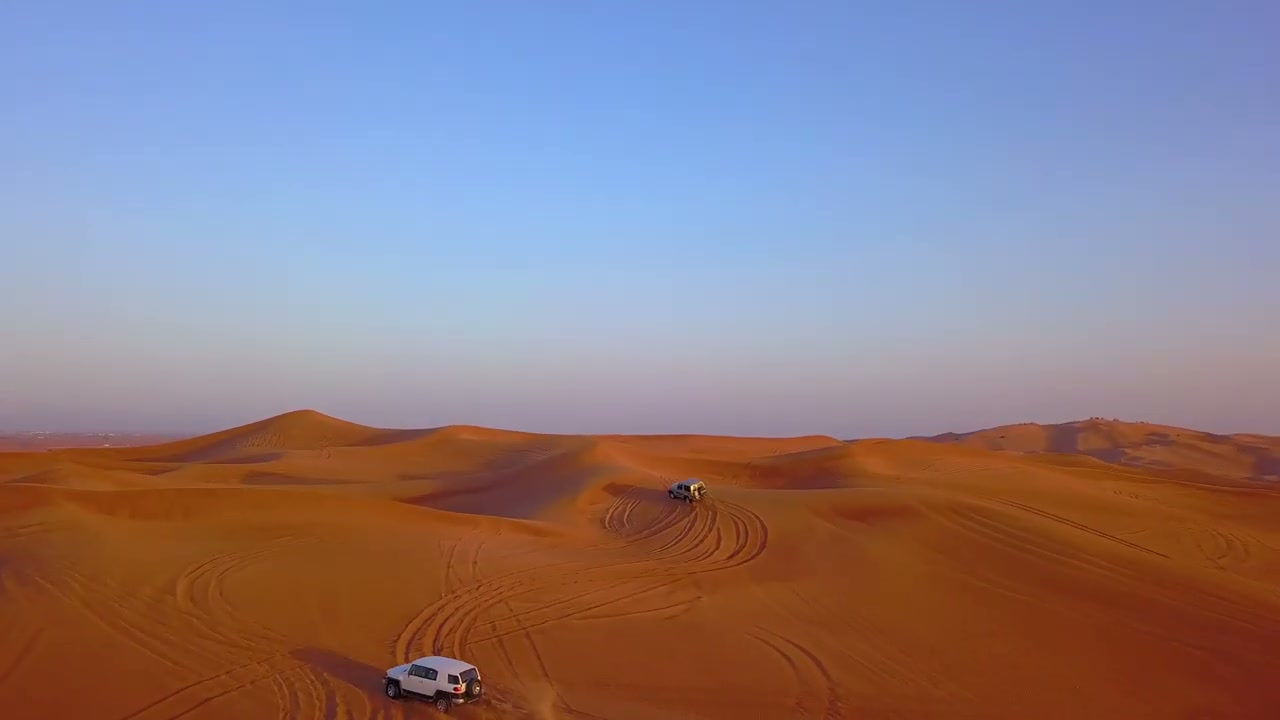vehicle_track: (394, 501, 766, 659), (432, 503, 766, 651), (921, 504, 1150, 588), (393, 560, 588, 658), (31, 565, 206, 666), (174, 536, 313, 649), (461, 578, 680, 646), (119, 653, 300, 719), (988, 496, 1168, 558), (644, 499, 768, 574), (750, 626, 845, 719), (601, 486, 681, 543), (1182, 525, 1250, 569), (0, 626, 43, 689)
